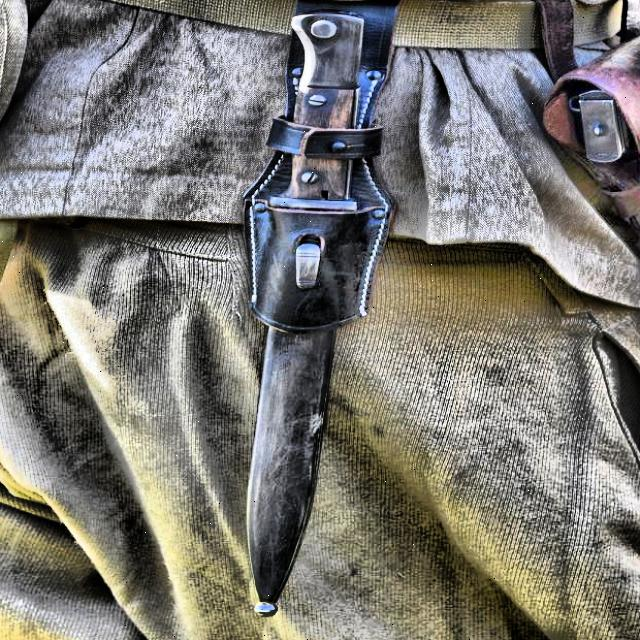knife: (238, 10, 390, 618)
